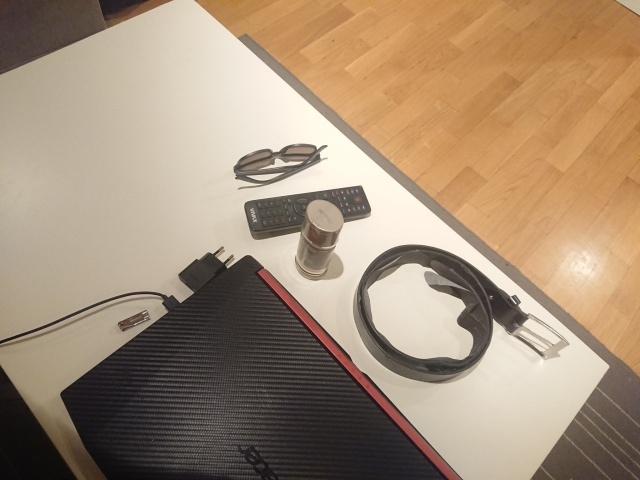Kotanyi Garlic Granules 70g: (293, 198, 351, 282)
